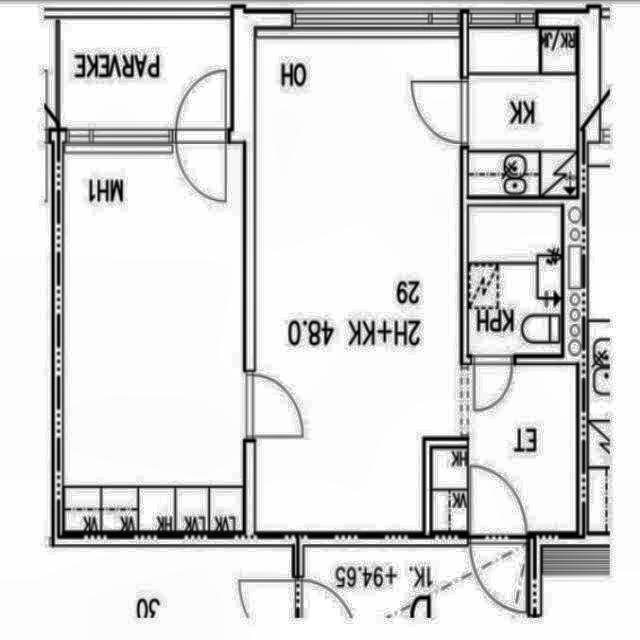room: (64, 144, 243, 532), (469, 29, 577, 197), (469, 365, 577, 532), (469, 206, 562, 355)
